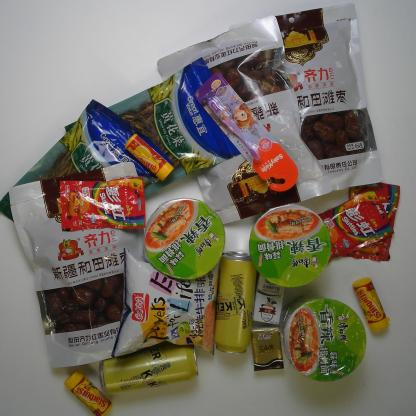Alcohol: (98, 344, 199, 395), (214, 250, 258, 356)
Candy: (318, 187, 395, 263), (59, 176, 146, 232), (341, 182, 400, 262), (124, 134, 174, 182), (64, 369, 113, 416), (352, 277, 391, 333)
Dried Food: (156, 15, 333, 224), (8, 161, 150, 368), (64, 57, 241, 196), (0, 99, 174, 223), (274, 2, 384, 191)
Instant Noodles: (282, 297, 367, 382), (248, 203, 332, 288), (143, 197, 226, 281)
Milk: (252, 273, 285, 325)
Personal Hygiene: (194, 72, 298, 192)
Puffed Food: (111, 247, 225, 359)
Tissue: (251, 326, 284, 372)
